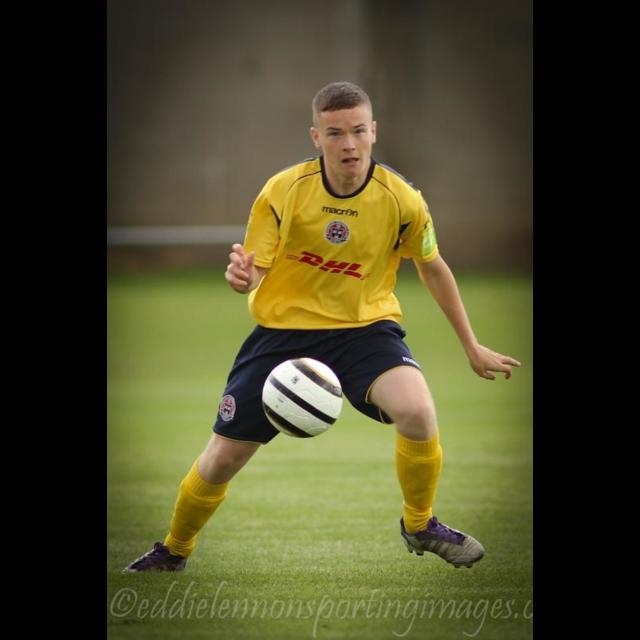Football: (258, 355, 344, 437)
